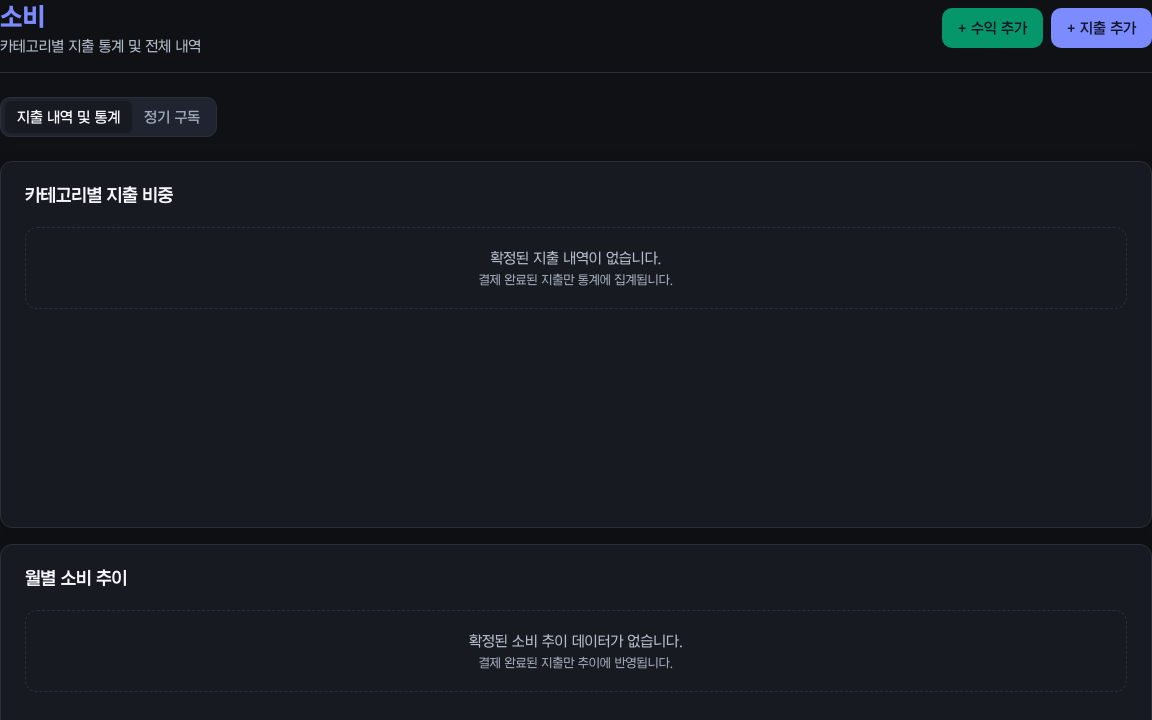
Test: ExpensesPage › 누적 충전형 구독 카드에서 잔여일 배지가 '[n일]' 형식으로 표시된다
The width and height of the screenshot is (1152, 720).
Click the tab "정기 구독" at (172, 117), box [132,101,212,133]
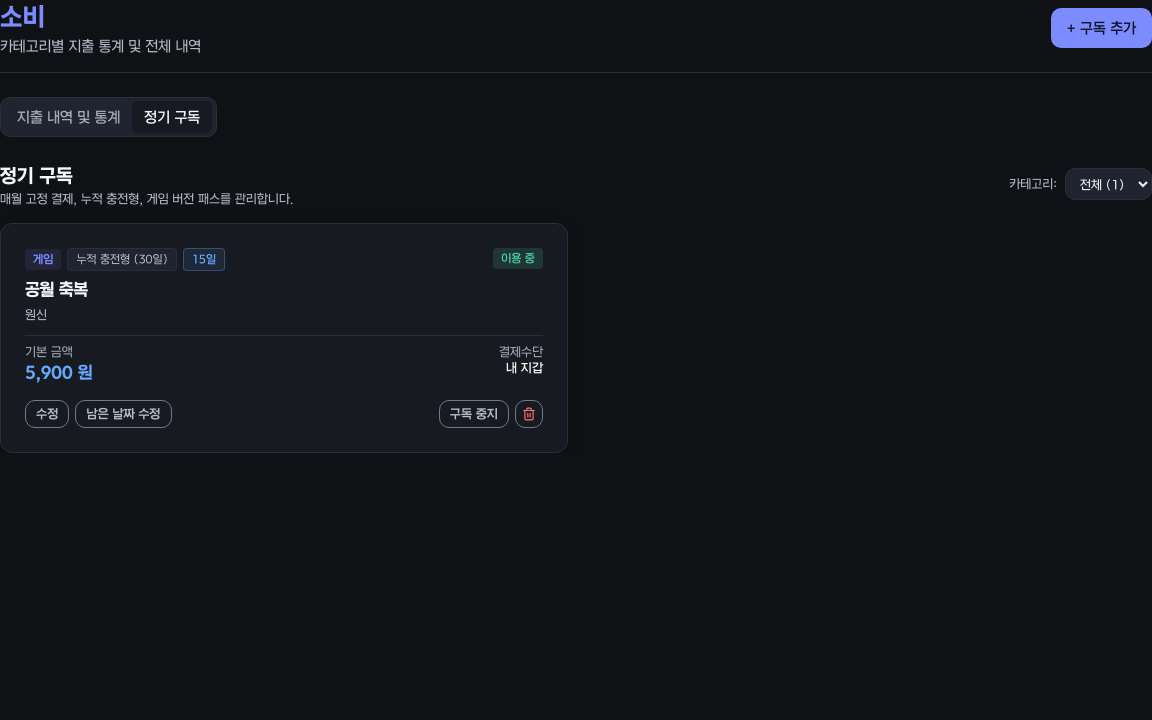
Now the text "누적 충전형 (30일)" is shown, box [67,248,177,270]
